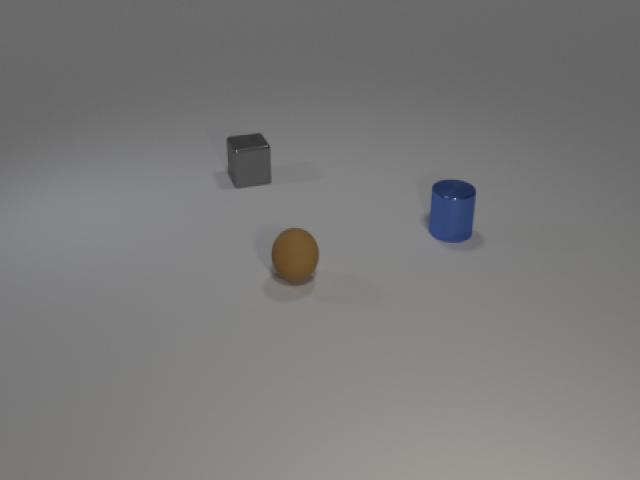cylinder: (417, 170, 490, 253)
round ball: (263, 220, 324, 292)
